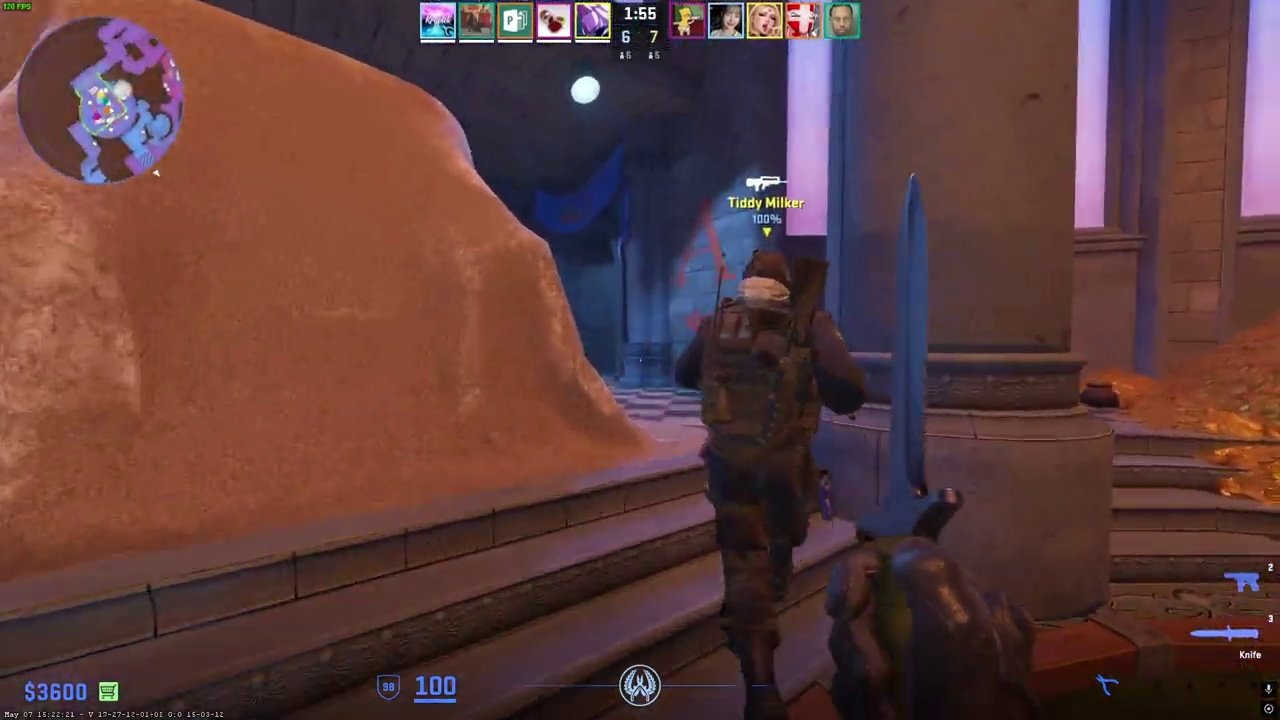CT: (692, 248, 852, 717)
